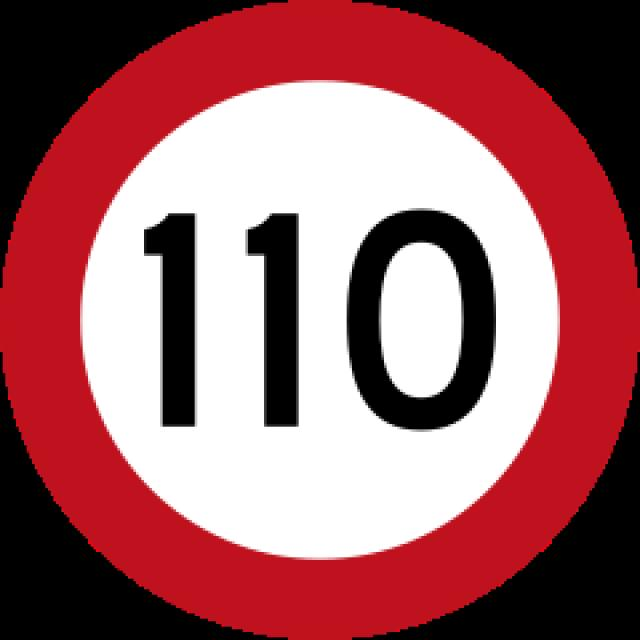Speed Limit -110-: (130, 200, 512, 453)
